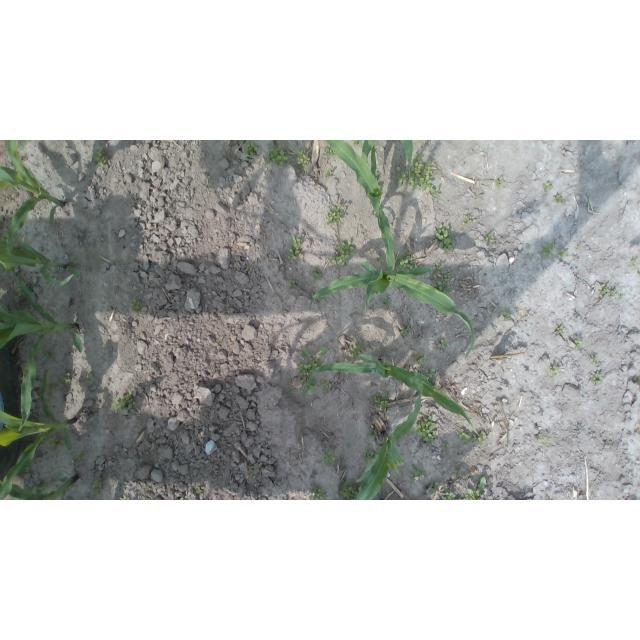Maize: (308, 198, 475, 361), (300, 346, 485, 443), (1, 274, 86, 433), (1, 366, 79, 499), (0, 141, 68, 260), (354, 384, 422, 500), (323, 140, 381, 221), (3, 235, 81, 287), (360, 140, 415, 190), (1, 472, 83, 499)
Weeds: (396, 154, 440, 197), (297, 359, 320, 395), (329, 240, 356, 267), (539, 240, 568, 263), (457, 430, 487, 449), (416, 418, 437, 445), (109, 394, 136, 415), (431, 263, 449, 292), (434, 225, 454, 251), (264, 146, 285, 166), (325, 205, 347, 224), (287, 236, 301, 263), (240, 140, 260, 156), (93, 146, 107, 165), (319, 377, 332, 395), (476, 477, 487, 498), (296, 150, 310, 166), (421, 366, 437, 380), (320, 447, 334, 463), (411, 466, 425, 482), (339, 483, 355, 497), (396, 257, 416, 268), (599, 283, 617, 295), (534, 433, 550, 446), (308, 488, 324, 501), (591, 373, 605, 387), (12, 279, 26, 293), (373, 396, 387, 408), (363, 449, 376, 461), (91, 483, 102, 497), (485, 232, 496, 245), (325, 166, 336, 179), (430, 480, 439, 495), (324, 145, 335, 157), (383, 296, 394, 308), (502, 312, 515, 322), (313, 270, 324, 281), (541, 181, 552, 192), (554, 193, 565, 204), (466, 488, 477, 499), (497, 175, 506, 186), (465, 215, 476, 224), (445, 492, 456, 501), (549, 365, 558, 375), (415, 355, 425, 364), (556, 325, 565, 334), (438, 340, 447, 349), (130, 300, 139, 309), (64, 373, 71, 384), (575, 339, 583, 348), (403, 325, 410, 335), (289, 280, 295, 291), (455, 470, 462, 479), (592, 357, 598, 364)
